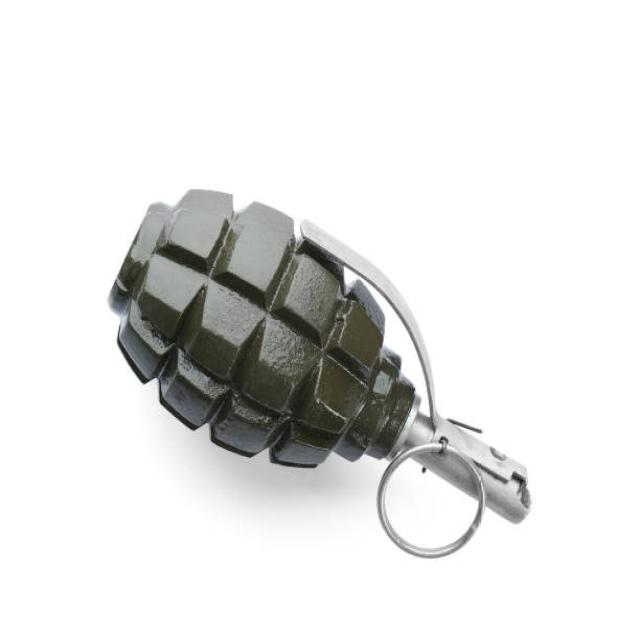grenade: (105, 179, 537, 562)
